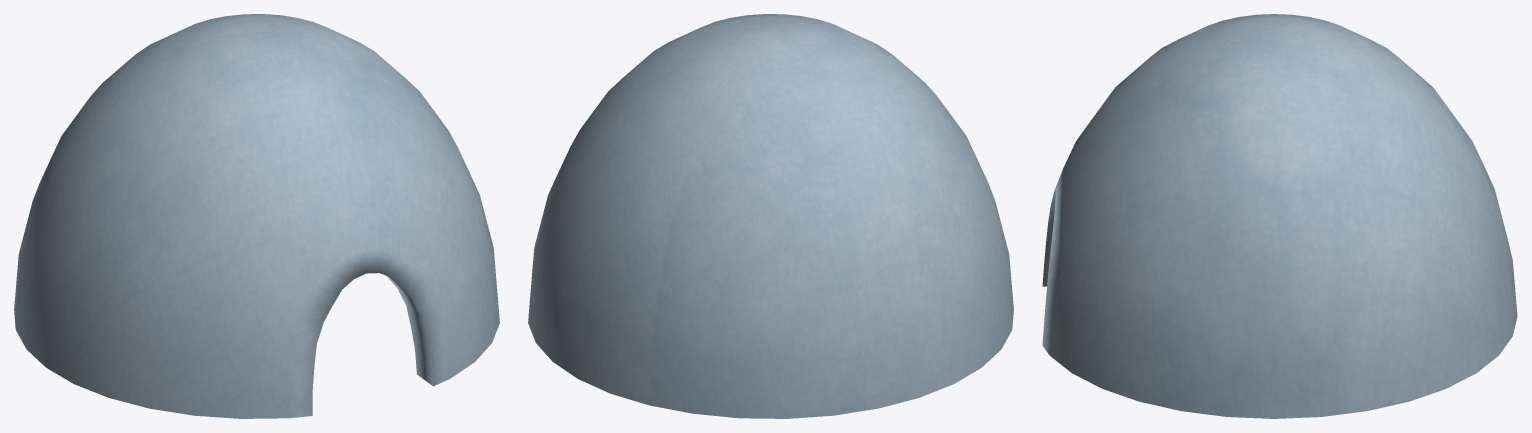
Rendered from sb_obj_outdoor050_SnowShelter.fbx.
3 renders of one model, left to right at view 1: azimuth 30°, elevation 25°; view 2: azimuth 150°, elevation 25°; view 3: azimuth 270°, elevation 25°, orthographic.
Parts seen in each view (by area): view 1: sb_obj_outdoor050_SnowShelter; view 2: sb_obj_outdoor050_SnowShelter; view 3: sb_obj_outdoor050_SnowShelter.
Boxes of the visible parts, x1,y1,x2,y2 form: sb_obj_outdoor050_SnowShelter: (14, 14, 499, 418); sb_obj_outdoor050_SnowShelter: (528, 14, 1013, 418); sb_obj_outdoor050_SnowShelter: (1042, 14, 1517, 418).
Bounding box in the file's own units: 2.39 × 1.54 × 2.33.
1 material, 1 textured.
